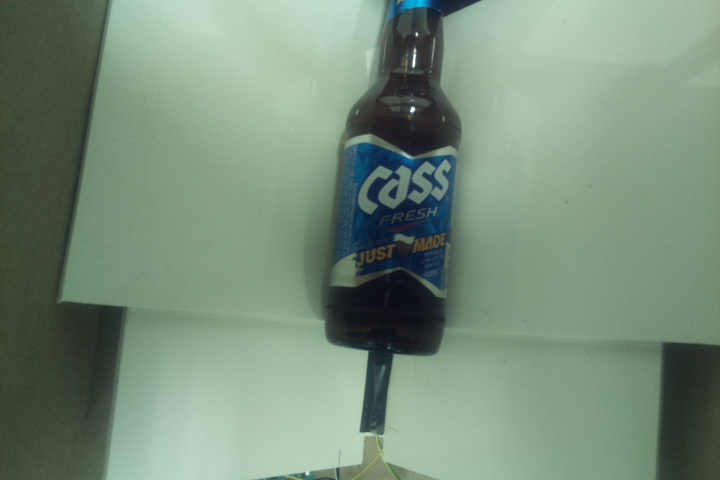makju: (319, 1, 463, 358)
